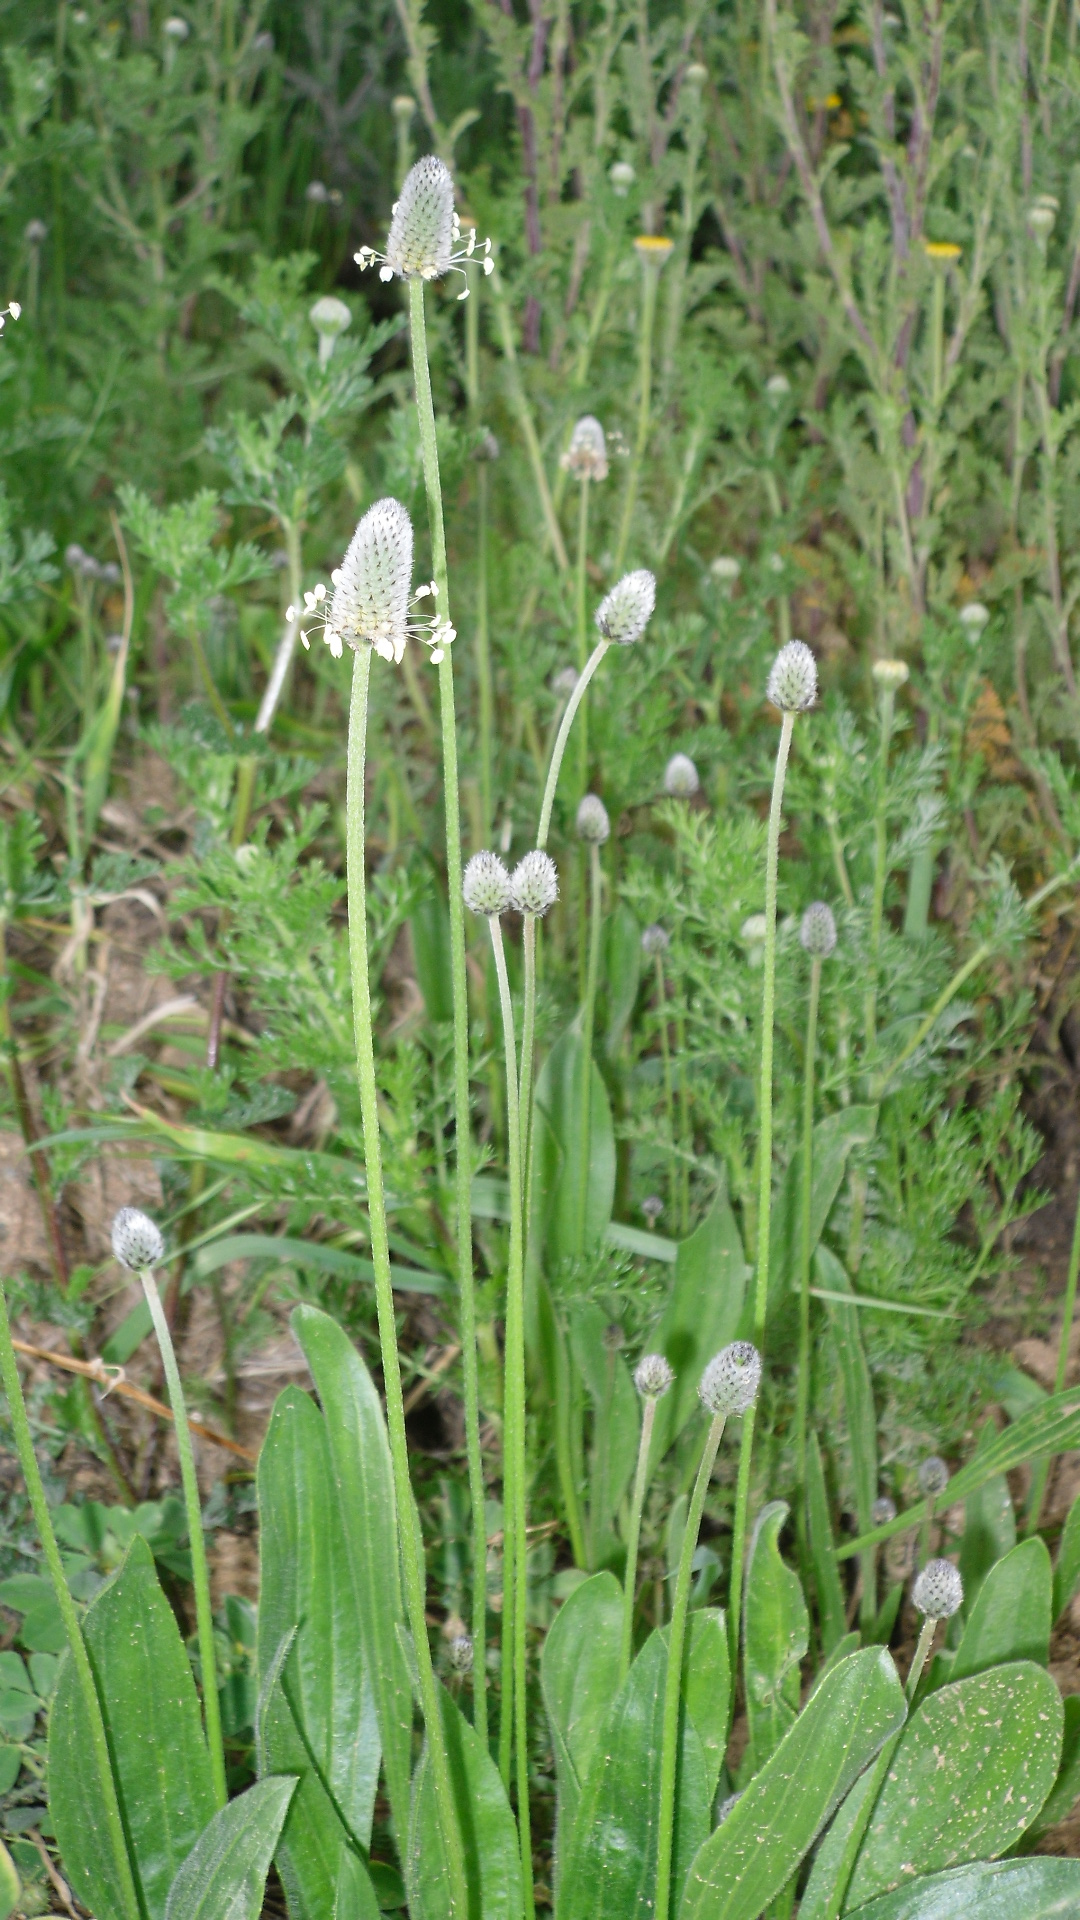buckhorn plantain: (105, 152, 1056, 1920)
